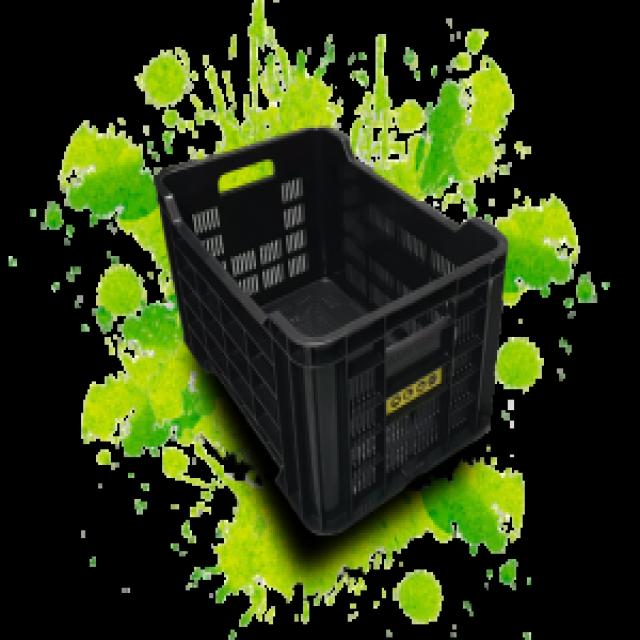basket: (95, 33, 590, 547)
